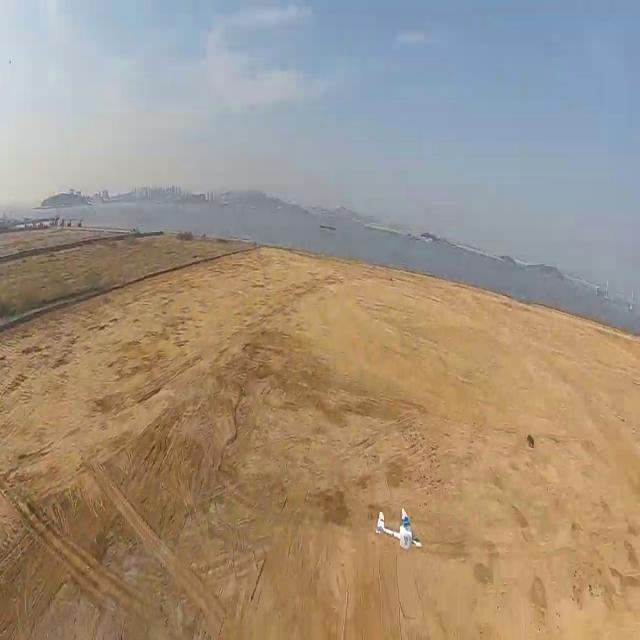iha: (372, 506, 421, 550)
